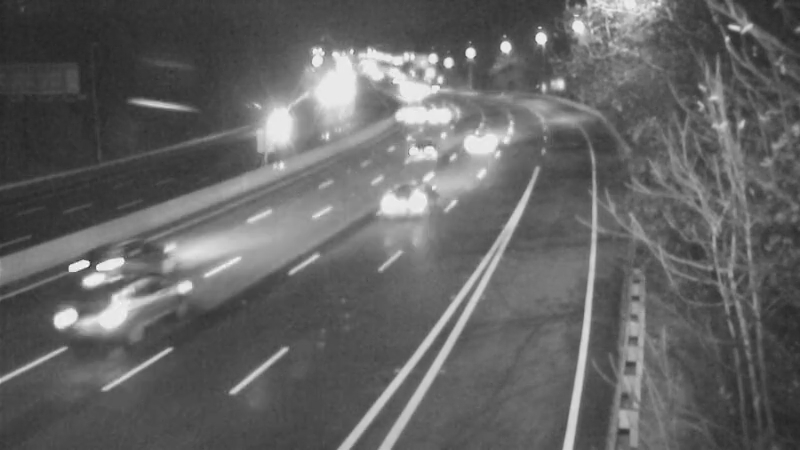vehicle: (30, 257, 140, 367), (355, 163, 435, 243), (60, 233, 140, 313), (412, 87, 462, 137), (384, 92, 434, 142), (391, 124, 441, 174), (455, 115, 505, 165), (242, 102, 292, 152)
